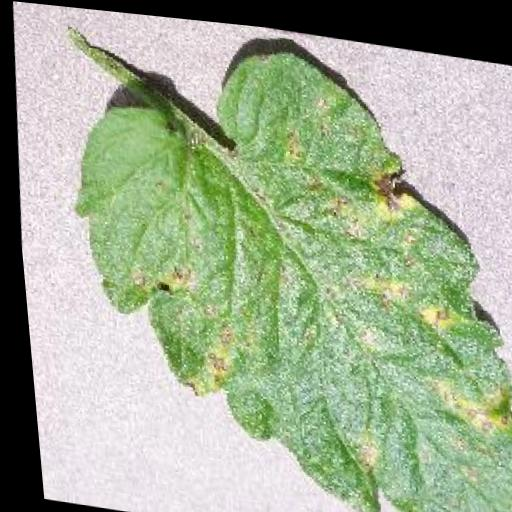Septoria: (44, 15, 512, 512)
